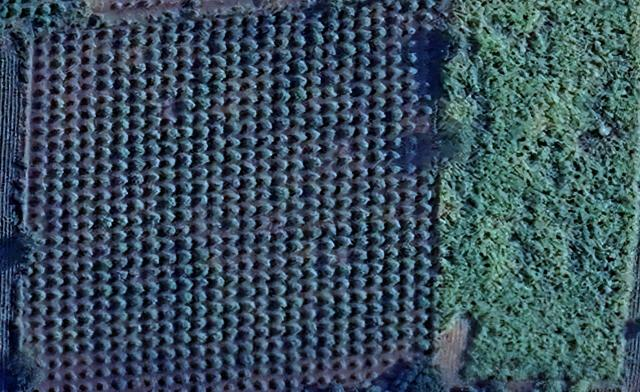Farms: (21, 0, 442, 392), (433, 0, 639, 391)
